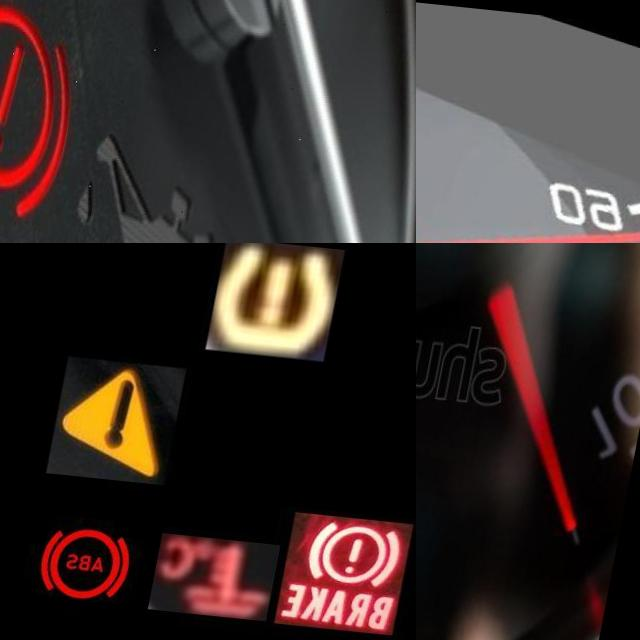Central Warning lamp: (62, 351, 198, 478)
Engine cooling system: (169, 525, 299, 611)
